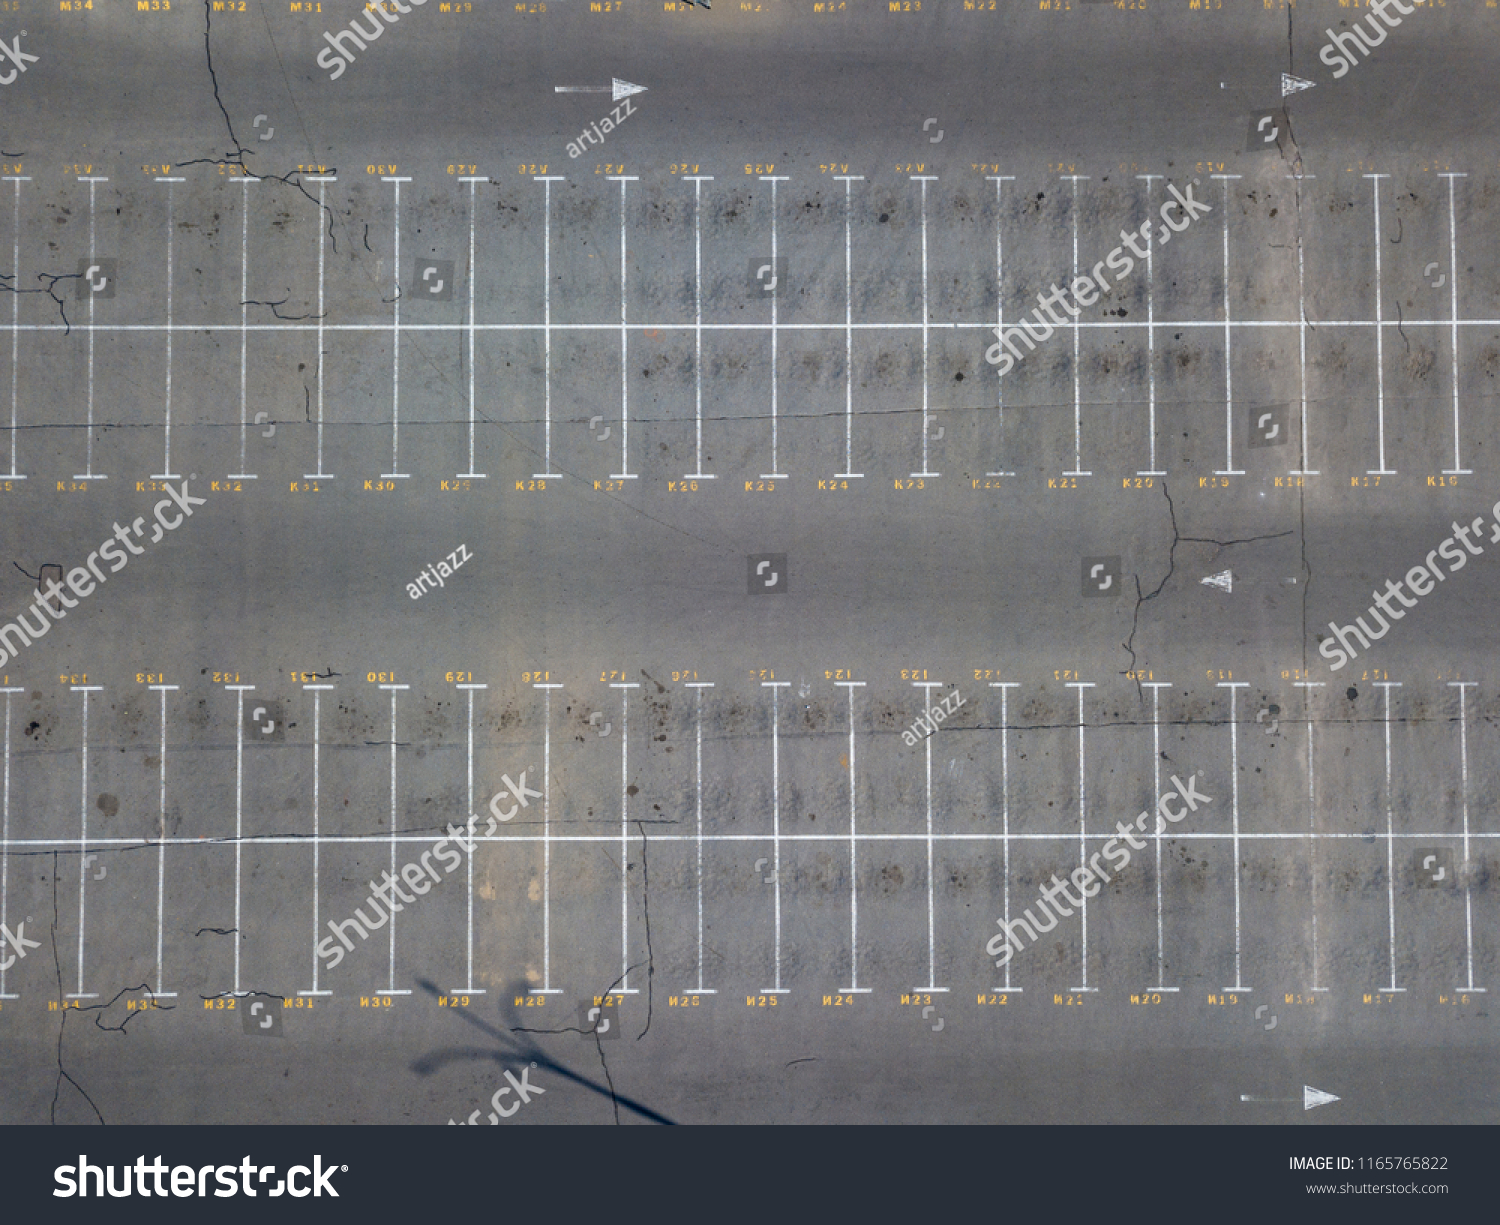LaneMark: (1, 832, 1500, 841), (2, 324, 1500, 327), (4, 176, 31, 187)
